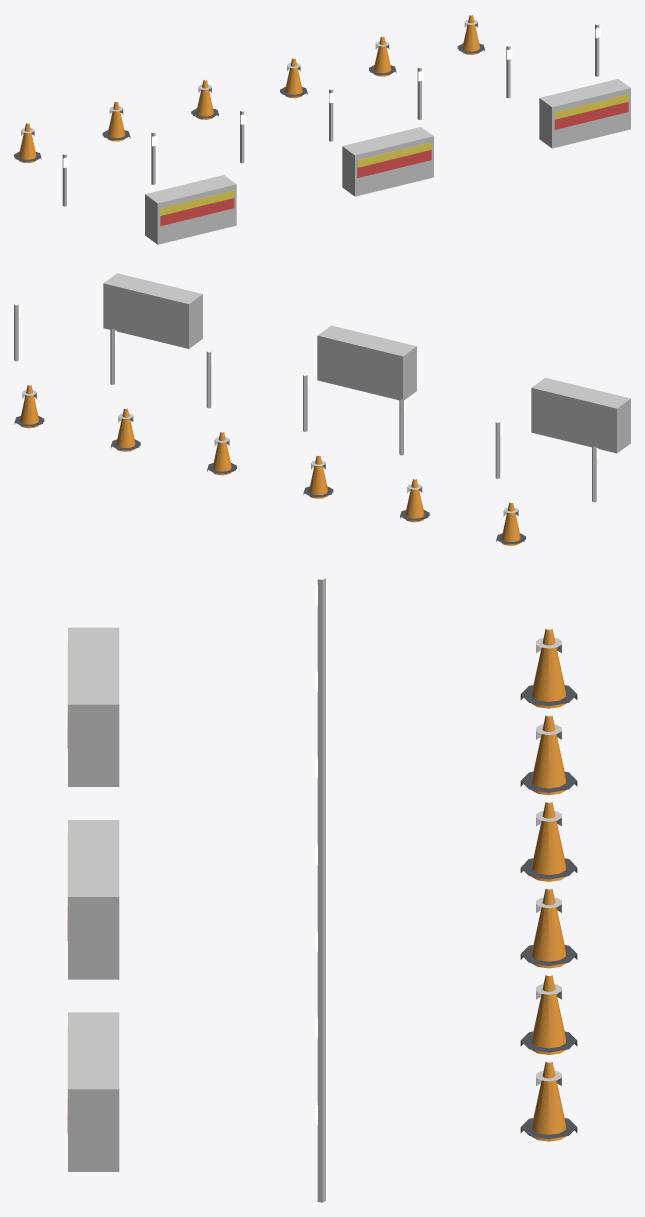
The model's file is turnpike_lane_kit.glb.
3 views of the same model, one above another, from view 1: azimuth 30°, elevation 25°; view 2: azimuth 150°, elevation 25°; view 3: azimuth 270°, elevation 25° (orthographic). The views are drawn at different scales.
Parts seen in each view (by area): view 1: turnpike_lane_kit; view 2: turnpike_lane_kit; view 3: turnpike_lane_kit.
Part boxes in pixels (<box>): turnpike_lane_kit: <box>14,15,630,244</box>; turnpike_lane_kit: <box>14,273,630,545</box>; turnpike_lane_kit: <box>67,578,577,1202</box>.
Bounding box in the file's own units: 10.9 × 1 × 4.48.
